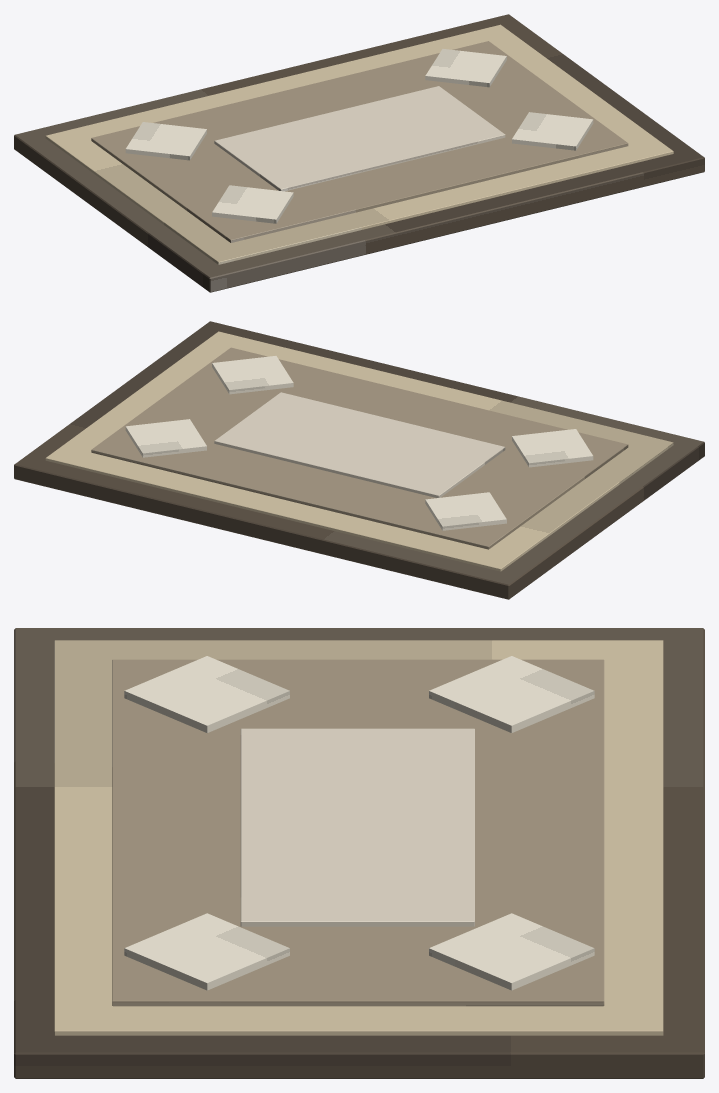
File: bedroom_rug_ivory.glb
The picture shows the model from 3 angles, top to bottom: view 1: azimuth 30°, elevation 25°; view 2: azimuth 150°, elevation 25°; view 3: azimuth 270°, elevation 25°; orthographic projection. The views are drawn at different scales.
Parts seen in each view (by area): view 1: RugField, RugBase, RugBorderOuter, RugCenter, RugDiamond_0.52_-0.26, RugDiamond_-0.52_-0.26, RugDiamond_0.52_0.26, RugDiamond_-0.52_0.26; view 2: RugField, RugBase, RugBorderOuter, RugCenter, RugDiamond_0.52_0.26, RugDiamond_-0.52_0.26, RugDiamond_0.52_-0.26, RugDiamond_-0.52_-0.26; view 3: RugField, RugBase, RugBorderOuter, RugCenter, RugDiamond_0.52_0.26, RugDiamond_0.52_-0.26, RugDiamond_-0.52_0.26, RugDiamond_-0.52_-0.26.
Part boxes in pixels (x1=…): RugField: x1=91, y1=41, x2=628, y2=242; RugBase: x1=14, y1=14, x2=704, y2=292; RugBorderOuter: x1=45, y1=24, x2=673, y2=264; RugCenter: x1=214, y1=86, x2=505, y2=191; RugDiamond_0.52_-0.26: x1=512, y1=112, x2=593, y2=150; RugDiamond_-0.52_-0.26: x1=212, y1=185, x2=293, y2=223; RugDiamond_0.52_0.26: x1=425, y1=49, x2=506, y2=87; RugDiamond_-0.52_0.26: x1=125, y1=122, x2=206, y2=160; RugField: x1=91, y1=347, x2=628, y2=549; RugBase: x1=14, y1=321, x2=704, y2=599; RugBorderOuter: x1=45, y1=331, x2=673, y2=571; RugCenter: x1=214, y1=392, x2=505, y2=497; RugDiamond_0.52_0.26: x1=125, y1=419, x2=206, y2=457; RugDiamond_-0.52_0.26: x1=425, y1=492, x2=506, y2=530; RugDiamond_0.52_-0.26: x1=212, y1=356, x2=293, y2=394; RugDiamond_-0.52_-0.26: x1=512, y1=429, x2=593, y2=467; RugField: x1=112, y1=659, x2=604, y2=1006; RugBase: x1=14, y1=628, x2=704, y2=1078; RugBorderOuter: x1=54, y1=640, x2=663, y2=1035; RugCenter: x1=240, y1=728, x2=474, y2=926; RugDiamond_0.52_0.26: x1=429, y1=913, x2=594, y2=990; RugDiamond_0.52_-0.26: x1=124, y1=913, x2=289, y2=990; RugDiamond_-0.52_0.26: x1=429, y1=656, x2=594, y2=732; RugDiamond_-0.52_-0.26: x1=124, y1=656, x2=289, y2=732.
Size of the model in its own units: 1.72 by 0.089 by 1.18.
1 material, 1 textured.
